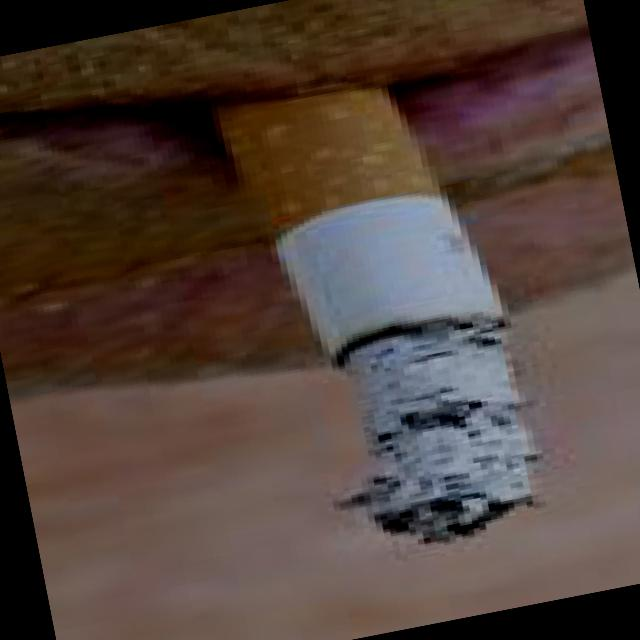cigarette: (192, 56, 554, 564)
